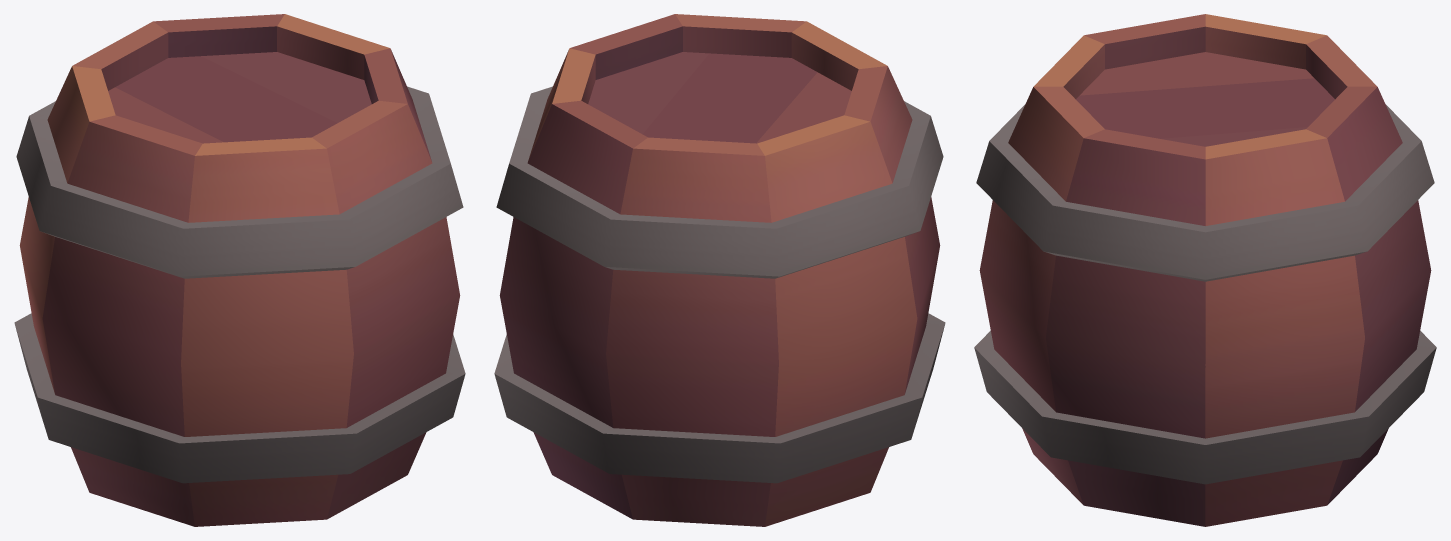
Rendered from p-barril.glb.
3 renders of one model, left to right at view 1: azimuth 30°, elevation 25°; view 2: azimuth 150°, elevation 25°; view 3: azimuth 270°, elevation 25°, orthographic.
Parts seen in each view (by area): view 1: Barrell; view 2: Barrell; view 3: Barrell.
Boxes of the visible parts, box(x1,y1,x2,y2) form: Barrell: box(14, 14, 465, 526); Barrell: box(494, 14, 945, 526); Barrell: box(974, 14, 1436, 526).
Bounding box in the file's own units: 0.4816 × 0.4221 × 0.4816.
Materials: 1 (1 with a texture image).
